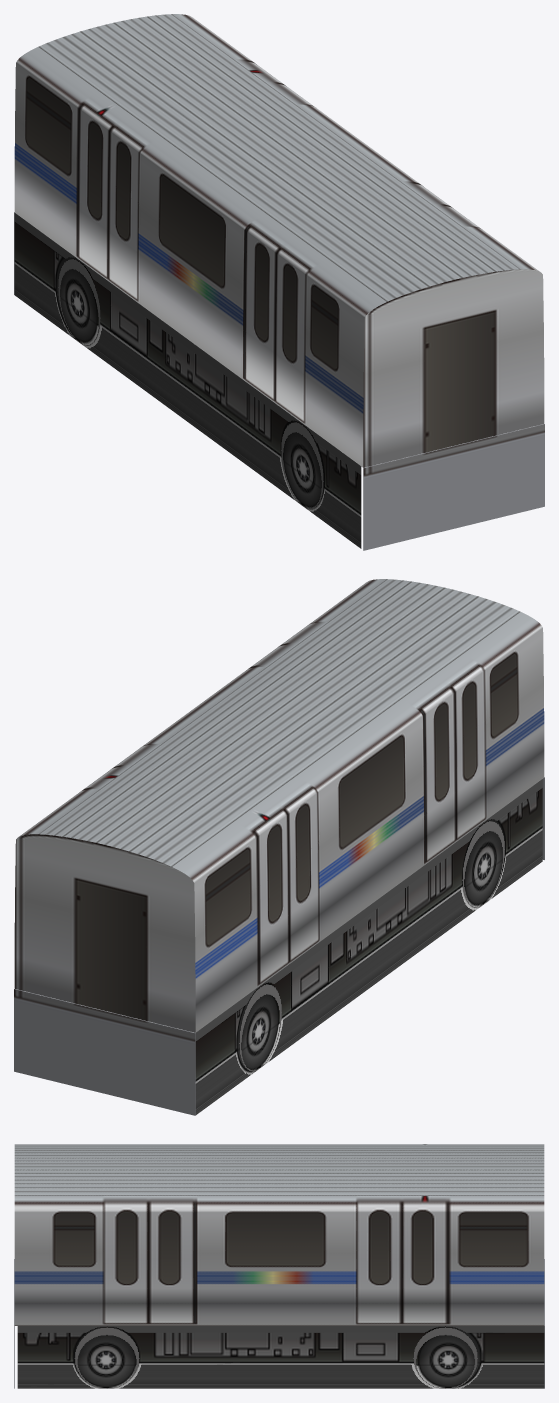
The model's file is car4.glb.
3 renders of one model, top to bottom at view 1: azimuth 30°, elevation 25°; view 2: azimuth 150°, elevation 25°; view 3: azimuth 270°, elevation 25°, orthographic. The views are drawn at different scales.
Visible parts, largest first — view 1: yurikamome-7300-car4; view 2: yurikamome-7300-car4; view 3: yurikamome-7300-car4.
Boxes of the visible parts, left/top/right/bottom form: yurikamome-7300-car4: left=14, top=14, right=544, bottom=550; yurikamome-7300-car4: left=14, top=579, right=544, bottom=1115; yurikamome-7300-car4: left=14, top=1144, right=544, bottom=1388.
Size of the model in its own units: 2.55 by 3.34 by 8.53.
Materials: 9 (8 with a texture image).
